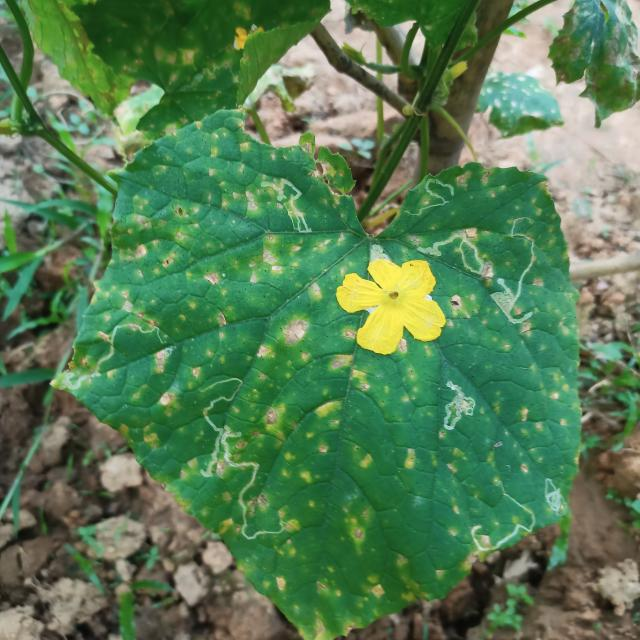disease_cucumber: (105, 148, 567, 615)
